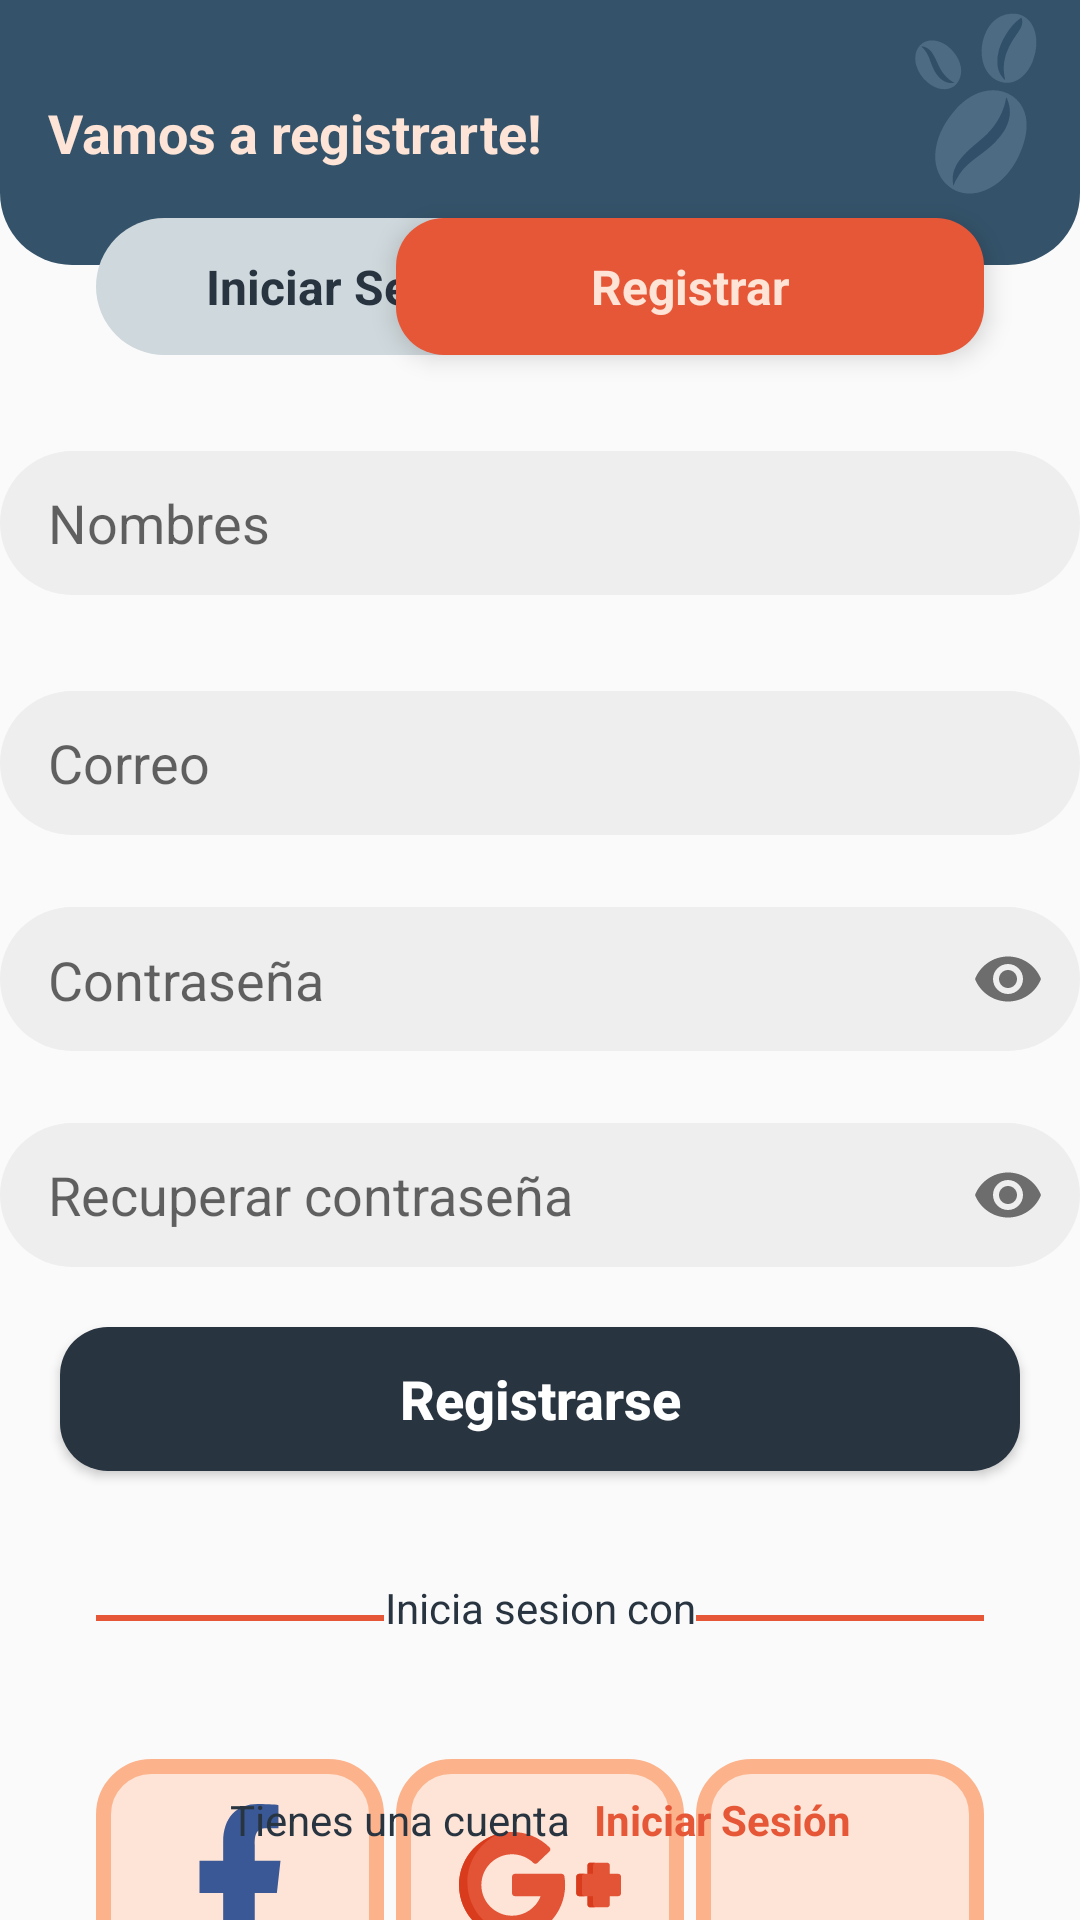

Screen size 1080 x 1920. Icon name, then its box in pixels as (x1, y1, x2, y2):
granos cafe: (916, 14, 1036, 193)
